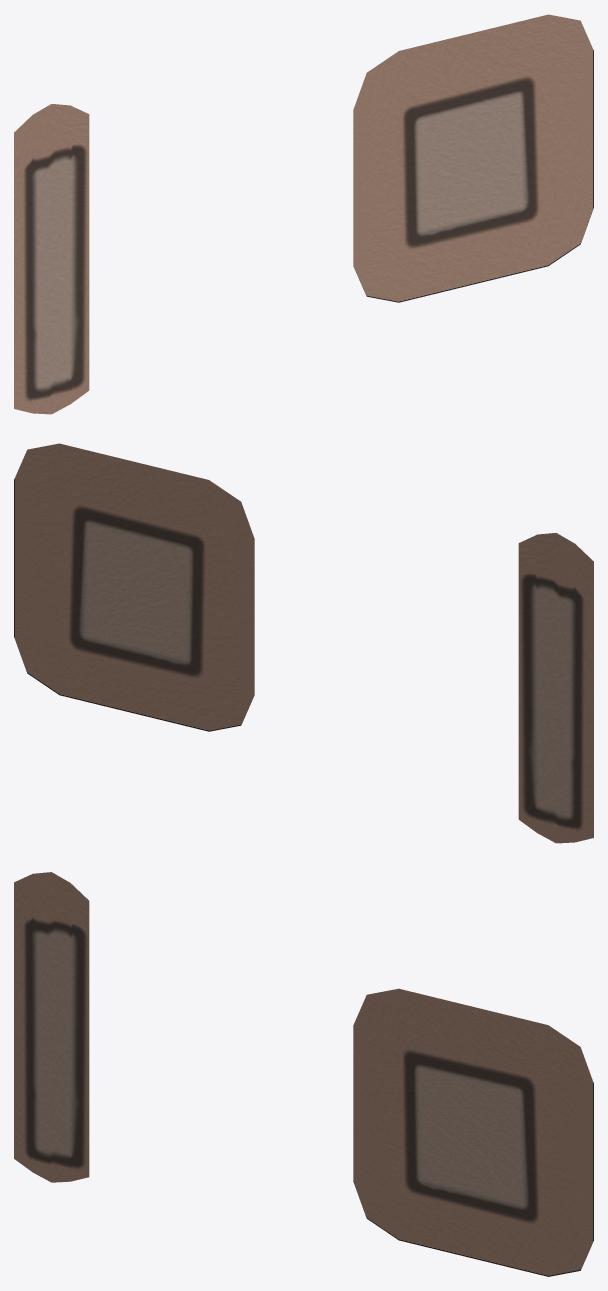
File: pencos.fbx
The picture shows the model from 3 angles, top to bottom: view 1: azimuth 30°, elevation 25°; view 2: azimuth 150°, elevation 25°; view 3: azimuth 330°, elevation 25°; orthographic projection.
Parts seen in each view (by area): view 1: penso; view 2: penso; view 3: penso.
Part boxes in pixels (box(x1,y1,x2,y2)): penso: box(14, 14, 593, 414); penso: box(14, 443, 593, 843); penso: box(14, 872, 593, 1276).
Size of the model in its own units: 439 by 225 by 0.000102.
1 material, 1 textured.
